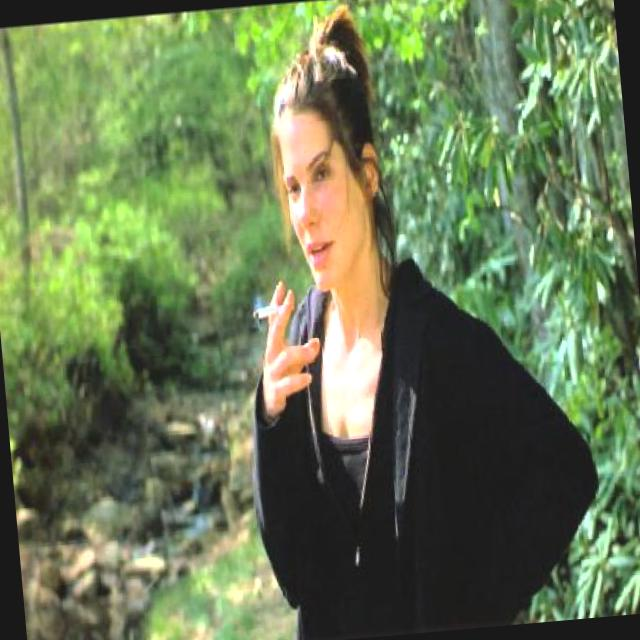smoke: (246, 286, 292, 335)
